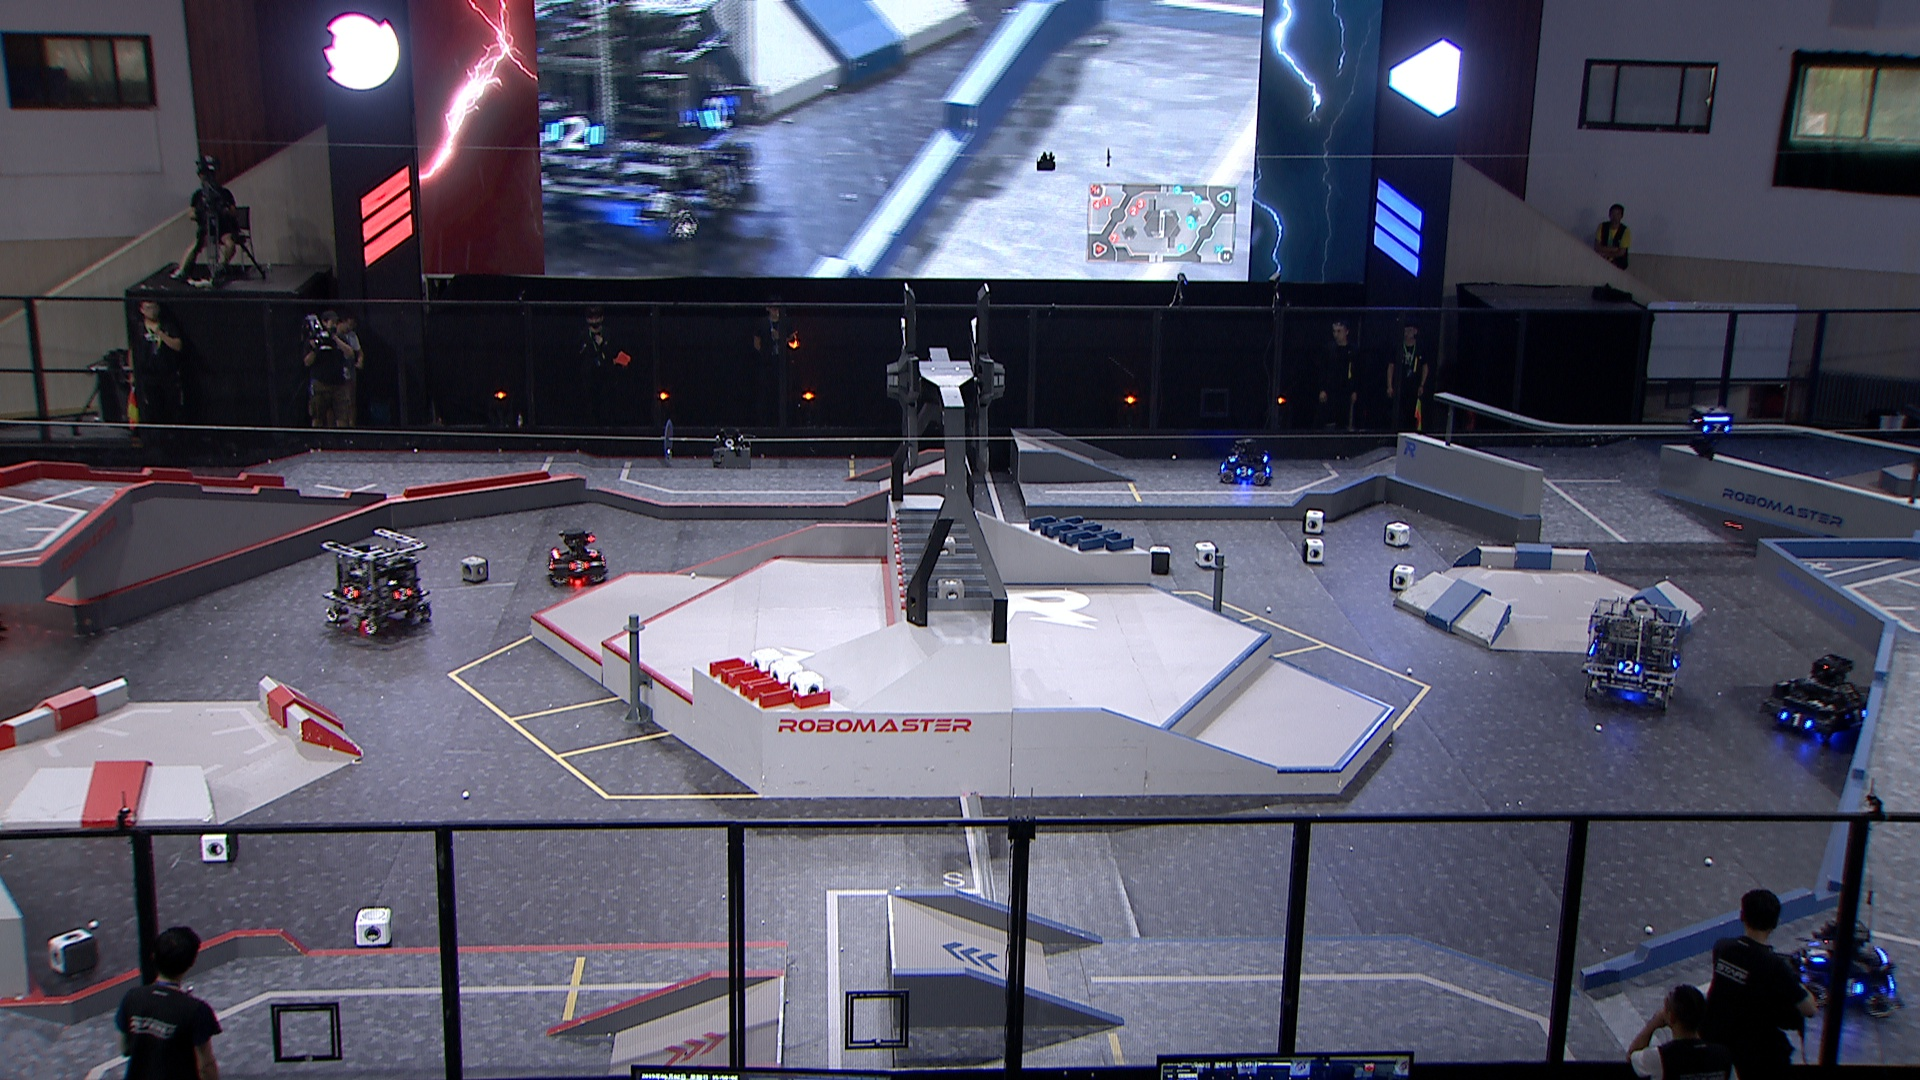armor: (1774, 707, 1815, 732), (1804, 940, 1830, 964), (1844, 705, 1873, 725), (1841, 975, 1863, 1000), (1615, 655, 1642, 676), (1700, 419, 1731, 436), (340, 583, 363, 603), (390, 584, 413, 603), (566, 556, 589, 574), (1233, 463, 1253, 479), (543, 553, 556, 575), (1669, 650, 1681, 673)
car: (1576, 595, 1689, 713), (318, 526, 433, 642), (1785, 916, 1902, 1021), (1760, 651, 1876, 746), (535, 524, 608, 589), (1216, 438, 1273, 488)
watcher: (1691, 400, 1735, 462)
